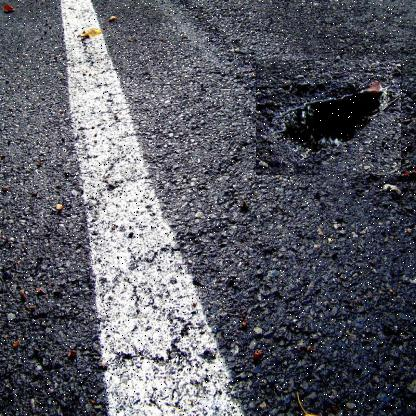pothole_water: (256, 60, 402, 176)
